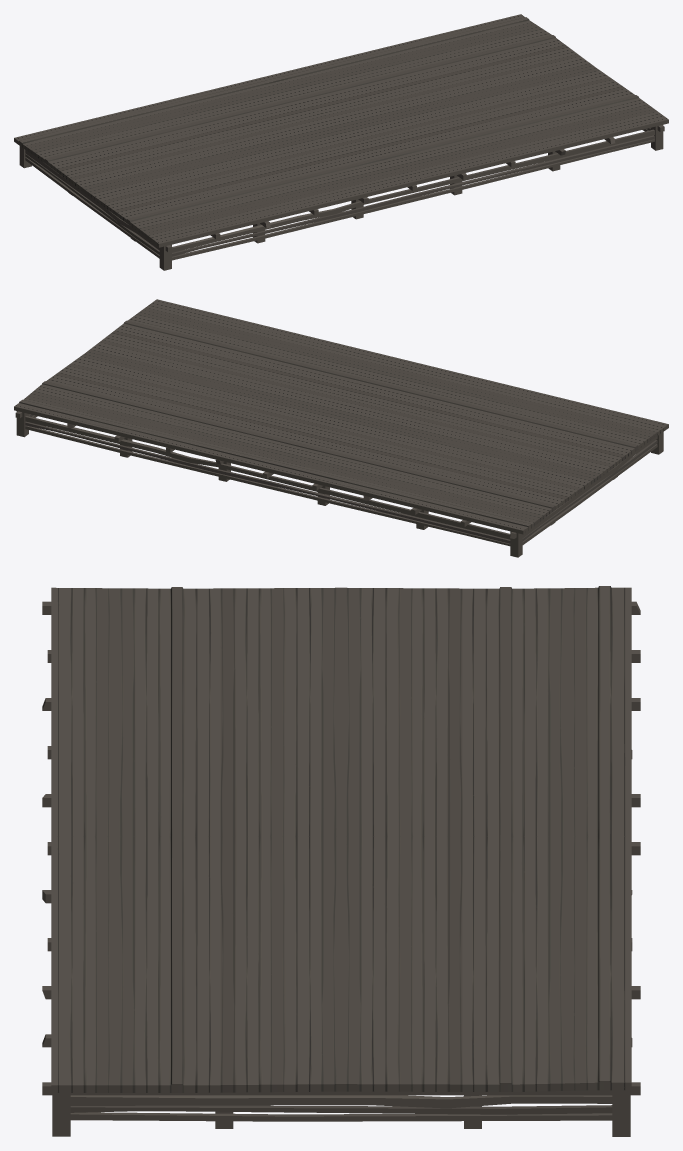
The model's file is SM_Bld_TrainStation_Platform_01.fbx.
3 views of the same model, one above another, from view 1: azimuth 30°, elevation 25°; view 2: azimuth 150°, elevation 25°; view 3: azimuth 270°, elevation 25° (orthographic). The views are drawn at different scales.
Visible parts, largest first — view 1: SM_Bld_TrainStation_Platform_01; view 2: SM_Bld_TrainStation_Platform_01; view 3: SM_Bld_TrainStation_Platform_01.
Boxes of the visible parts, x1=… form: SM_Bld_TrainStation_Platform_01: x1=14, y1=14, x2=668, y2=270; SM_Bld_TrainStation_Platform_01: x1=14, y1=299, x2=668, y2=557; SM_Bld_TrainStation_Platform_01: x1=42, y1=586, x2=640, y2=1136.
Size of the model in its own units: 2072 by 113 by 1053.
